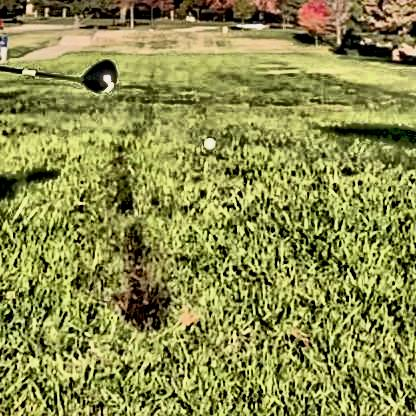golfball: (200, 133, 214, 147)
